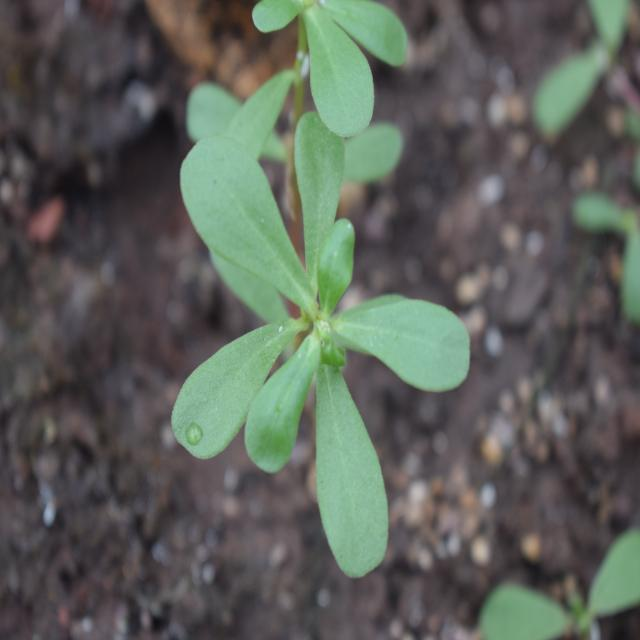purslane: (160, 0, 473, 568)
